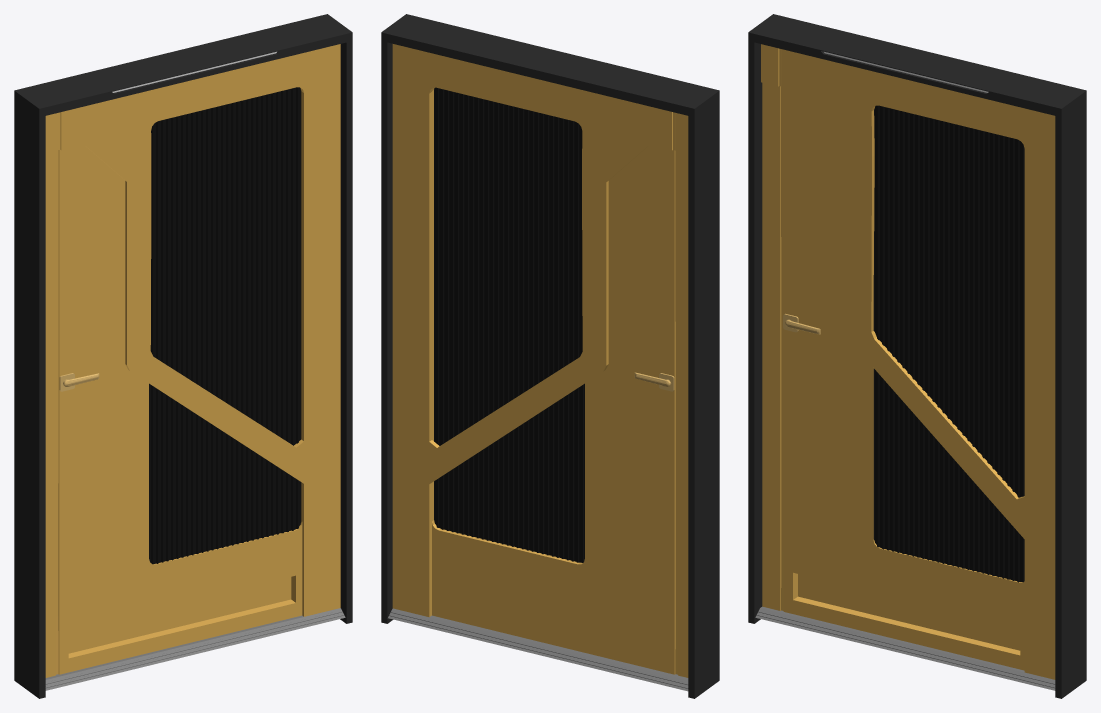
Rendered from door.fbx.
3 views of the same model, side by side, from view 1: azimuth 30°, elevation 25°; view 2: azimuth 150°, elevation 25°; view 3: azimuth 330°, elevation 25° (orthographic).
Parts seen in each view (by area): view 1: Cube.002, puerta, puerta chapa rara, marco, Cube.003; view 2: puerta, Cube.002, puerta chapa rara, marco, Cube.003; view 3: puerta, Cube.002, puerta chapa rara, marco, Cube.003.
Boxes of the visible parts, x1,y1,x2,y2 form: Cube.002: [149, 87, 301, 564]; puerta: [45, 91, 302, 677]; puerta chapa rara: [45, 44, 340, 616]; marco: [14, 14, 352, 698]; Cube.003: [45, 608, 345, 690]; puerta: [432, 88, 688, 677]; Cube.002: [434, 87, 584, 562]; puerta chapa rara: [392, 44, 688, 617]; marco: [381, 14, 719, 698]; Cube.003: [388, 608, 688, 691]; puerta: [762, 82, 1024, 670]; Cube.002: [873, 105, 1024, 582]; puerta chapa rara: [761, 44, 1055, 679]; marco: [748, 14, 1086, 698]; Cube.003: [755, 606, 1055, 690].
Size of the model in its own units: 175 by 314 by 24.28.
